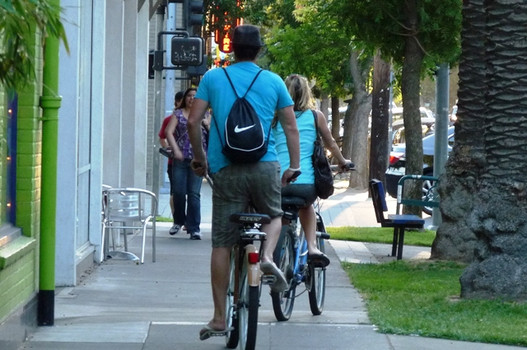Bicycle: (194, 188, 292, 349)
